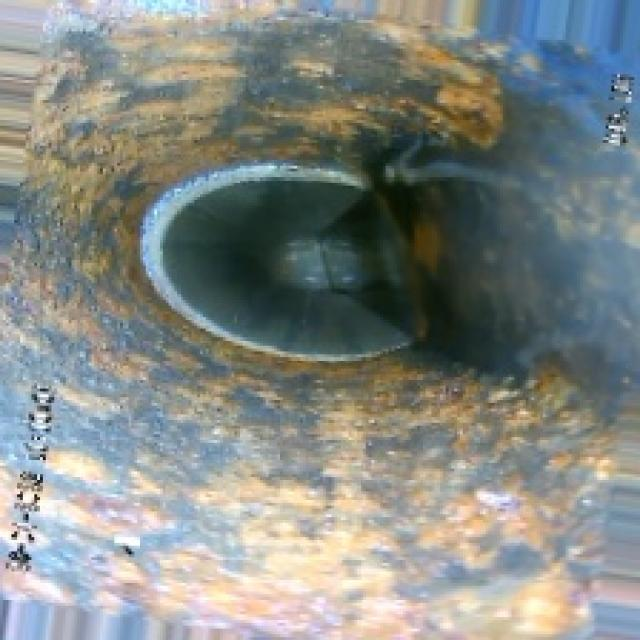encrustation: (69, 40, 572, 569)
